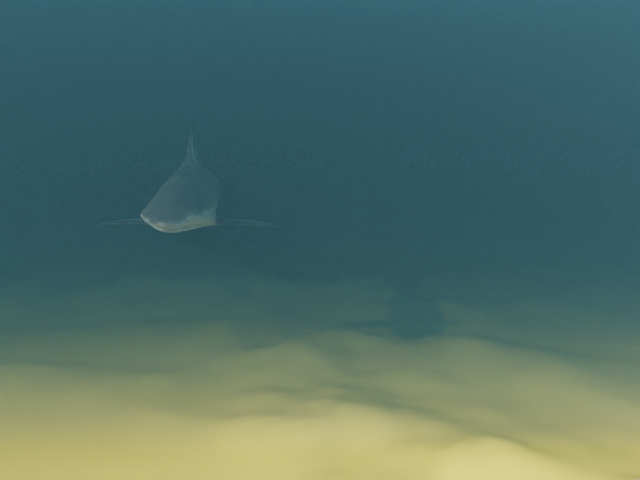Carribean Shark.001: (97, 124, 285, 232)
